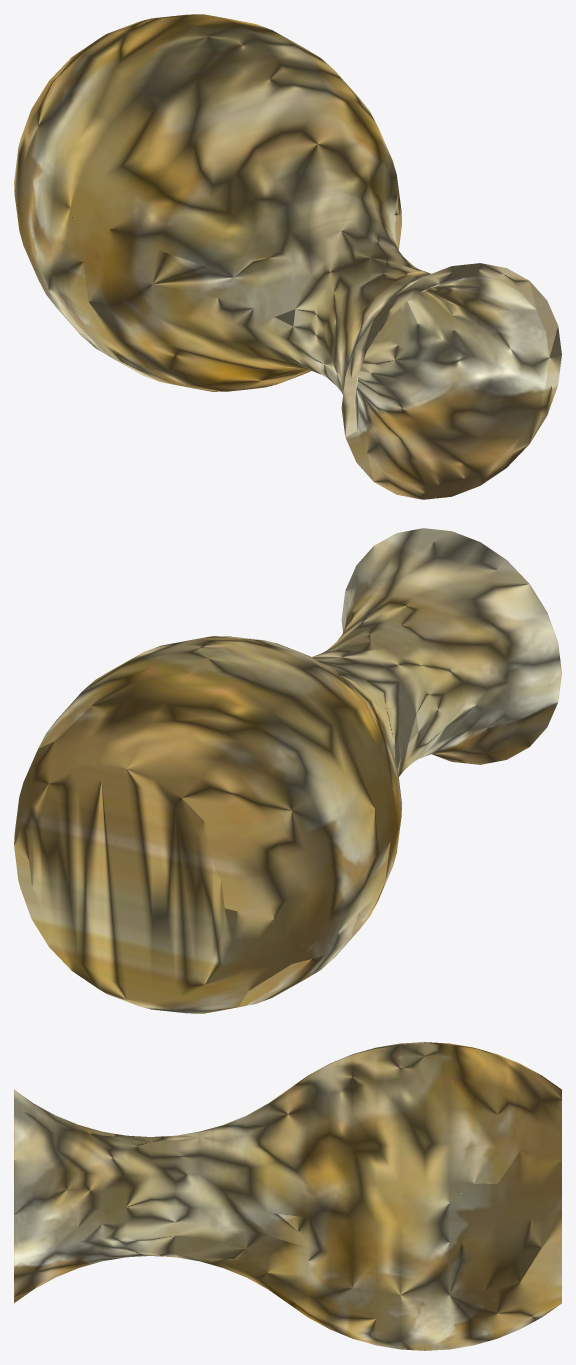
Rendered from model_align.obj.
3 renders of one model, top to bottom at view 1: azimuth 30°, elevation 25°; view 2: azimuth 150°, elevation 25°; view 3: azimuth 270°, elevation 25°, orthographic. The views are drawn at different scales.
Size of the model in its own units: 0.1255 by 0.1255 by 0.2219.
Materials: 1 (1 with a texture image).
